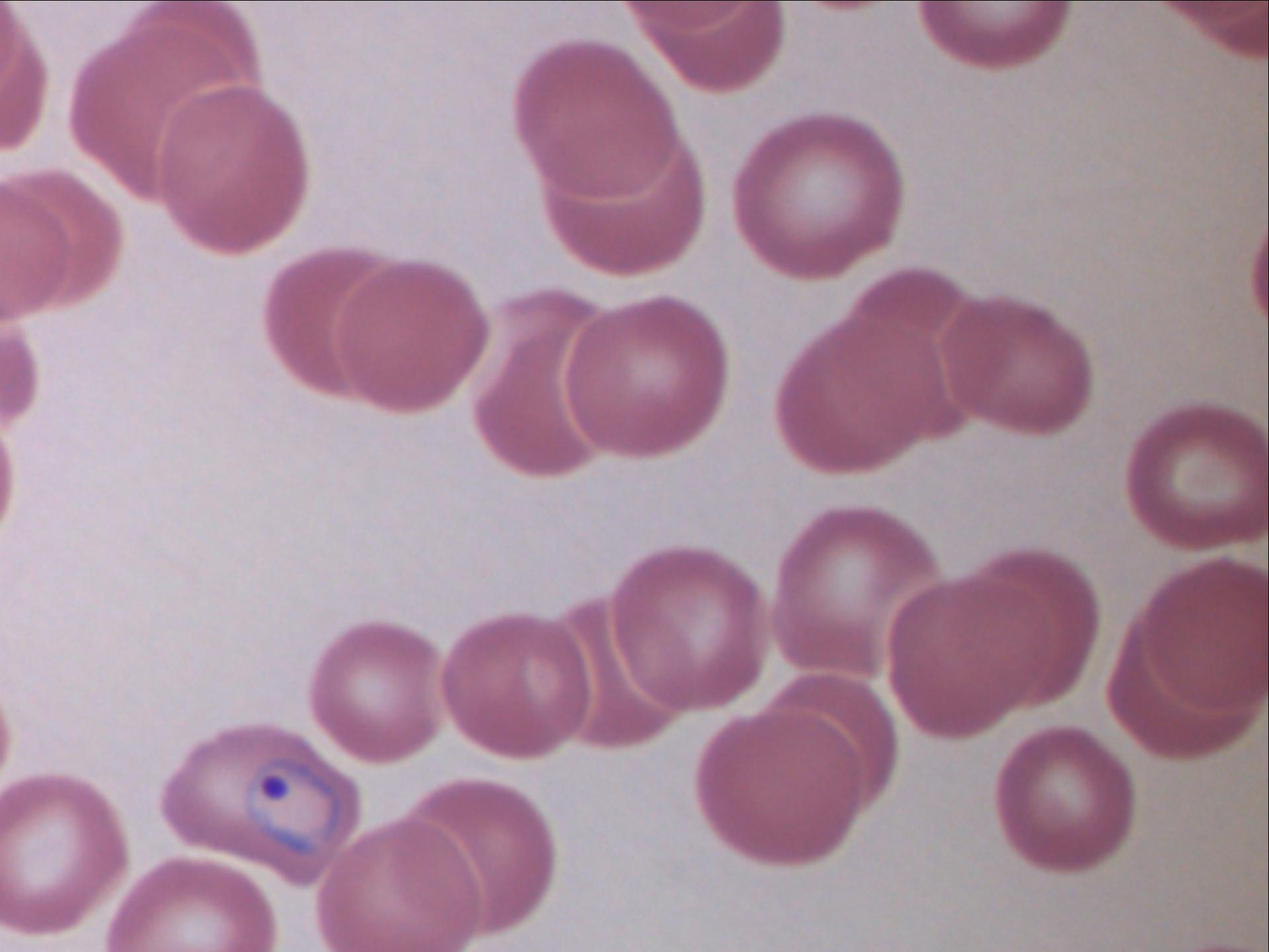Infected: (910, 62, 1110, 225)
Uninfected: (1013, 747, 1206, 918), (256, 512, 438, 688), (635, 474, 800, 660), (330, 267, 499, 447), (956, 692, 1116, 876), (533, 490, 705, 661), (372, 666, 538, 843), (324, 470, 492, 642), (401, 82, 570, 241), (714, 16, 880, 173), (498, 245, 661, 404), (595, 747, 753, 911), (562, 668, 727, 824), (216, 212, 383, 366), (776, 538, 939, 693), (784, 0, 953, 143), (674, 192, 834, 339), (1137, 14, 1269, 178), (571, 203, 718, 350), (172, 250, 313, 400), (0, 402, 141, 549), (134, 76, 272, 223), (815, 188, 958, 329), (174, 514, 329, 644), (877, 558, 1012, 707), (4, 234, 128, 392), (372, 148, 511, 278), (996, 0, 1154, 96)
